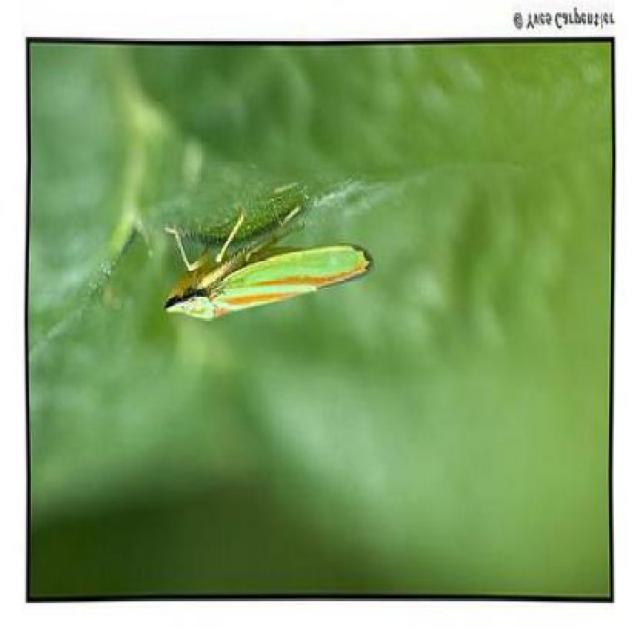green-leafhopper: (158, 210, 376, 324)
